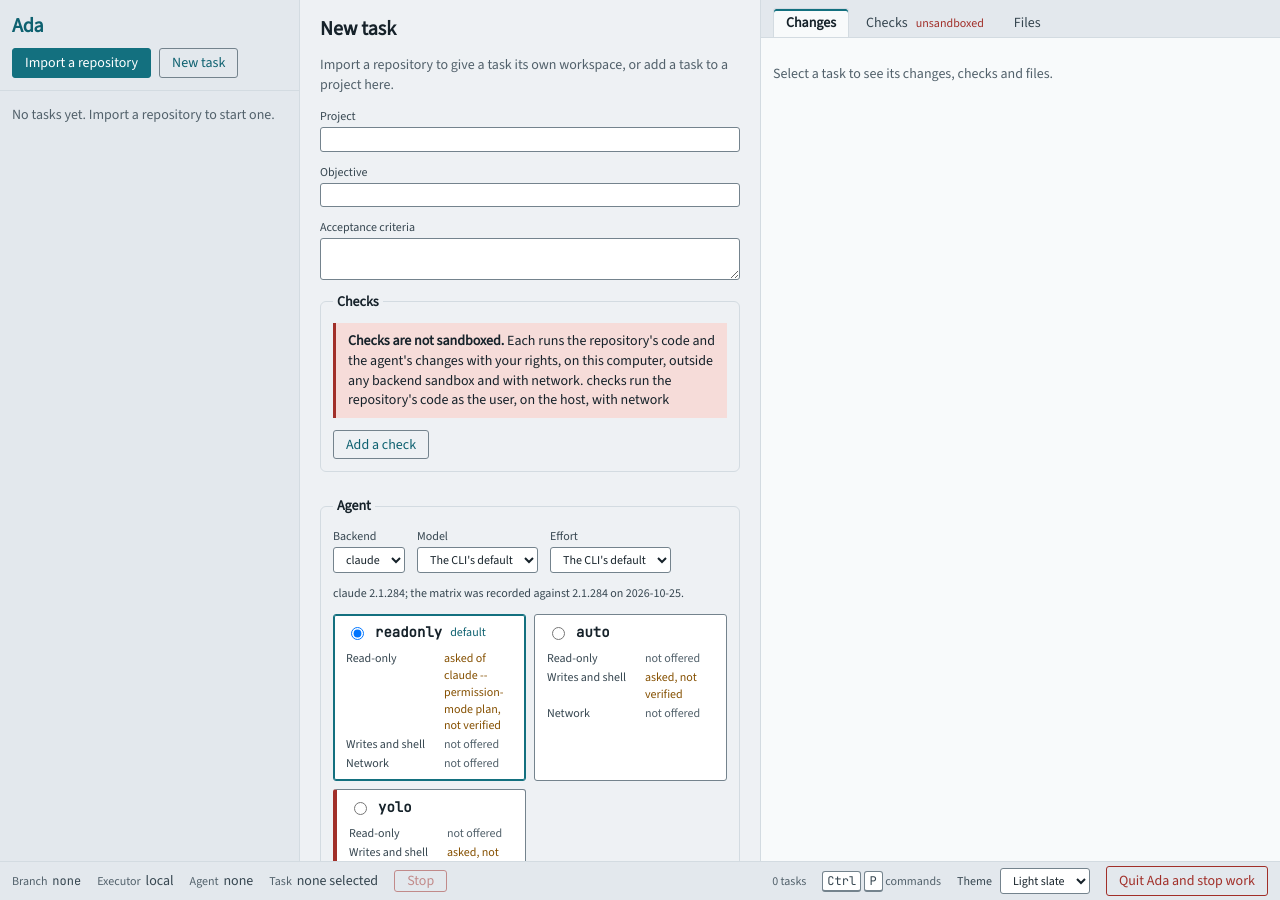
Scenario: App › shows the stop result before asking the shell to wait and quit
The width and height of the screenshot is (1280, 900).
Click the button "Quit Ada and stop work": coordinates (1187, 881) [1106,866,1268,896]
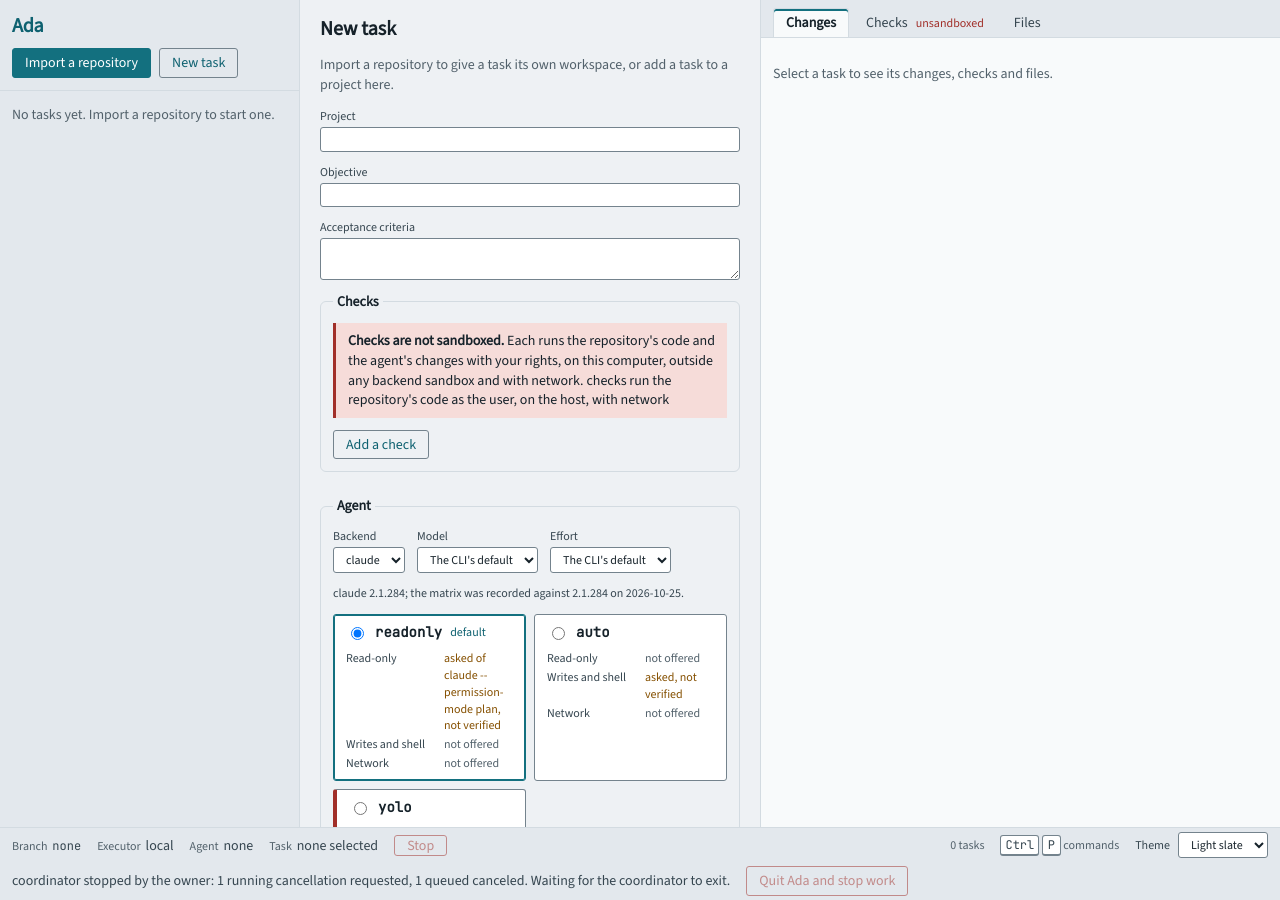
expect the text "coordinator stopped by the owner" is shown: met, box [12,871,211,890]
